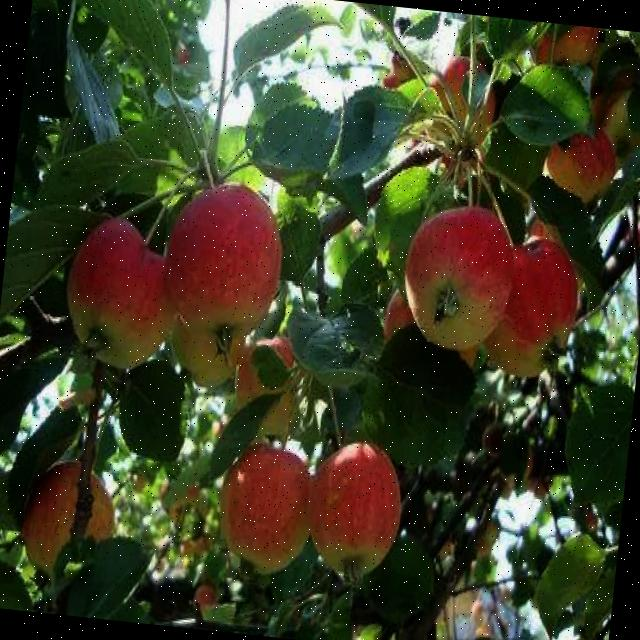apple: (143, 127, 302, 366), (40, 180, 200, 398), (287, 414, 448, 610), (380, 166, 534, 370), (444, 213, 598, 405), (194, 414, 348, 598), (2, 441, 148, 611), (400, 24, 510, 178), (147, 285, 252, 404), (530, 102, 624, 214), (519, 20, 620, 94), (587, 80, 640, 197), (167, 571, 240, 633), (627, 184, 640, 271)
